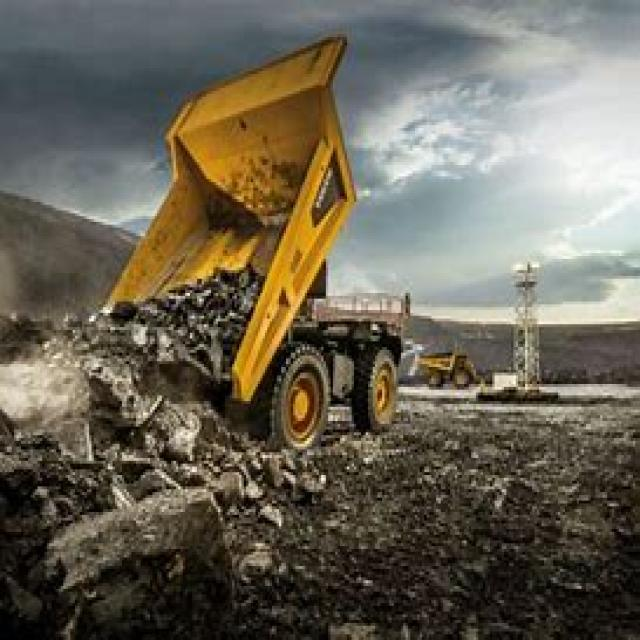dump_truck: (89, 23, 415, 441)
